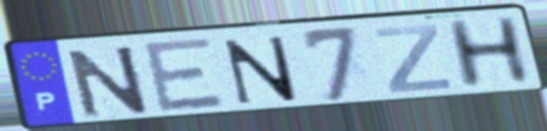7: (297, 23, 363, 105)
E: (139, 36, 229, 117)
H: (441, 13, 536, 93)
N: (64, 42, 154, 121), (221, 33, 301, 107)
Z: (370, 21, 454, 95)
